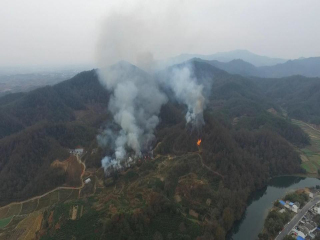smoke: (92, 11, 168, 175), (170, 64, 210, 127)
